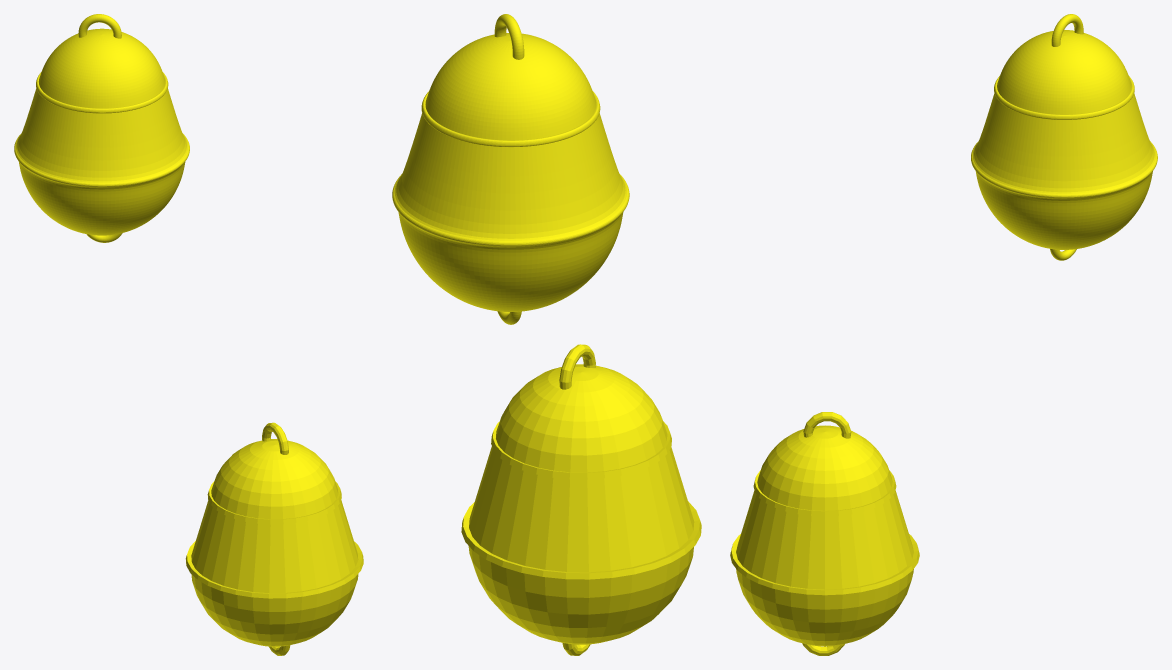
Rendered from buoy.fbx.
3 renders of one model, left to right at view 1: azimuth 30°, elevation 25°; view 2: azimuth 150°, elevation 25°; view 3: azimuth 270°, elevation 25°, orthographic. The views are drawn at different scales.
Parts seen in each view (by area): view 1: Torus.001, Sphere.001; view 2: Torus.001, Sphere.001, Torus.003; view 3: Torus.001, Sphere.001, Torus.003.
Part boxes in pixels (<box>): Torus.001: <box>14,14,189,242</box>; Sphere.001: <box>185,439,363,646</box>; Torus.001: <box>392,14,629,324</box>; Sphere.001: <box>461,364,701,644</box>; Torus.003: <box>559,344,595,389</box>; Torus.001: <box>971,14,1157,260</box>; Sphere.001: <box>730,425,919,646</box>; Torus.003: <box>803,412,851,438</box>.
Bounding box in the file's own units: 1070 × 2736 × 1746.
